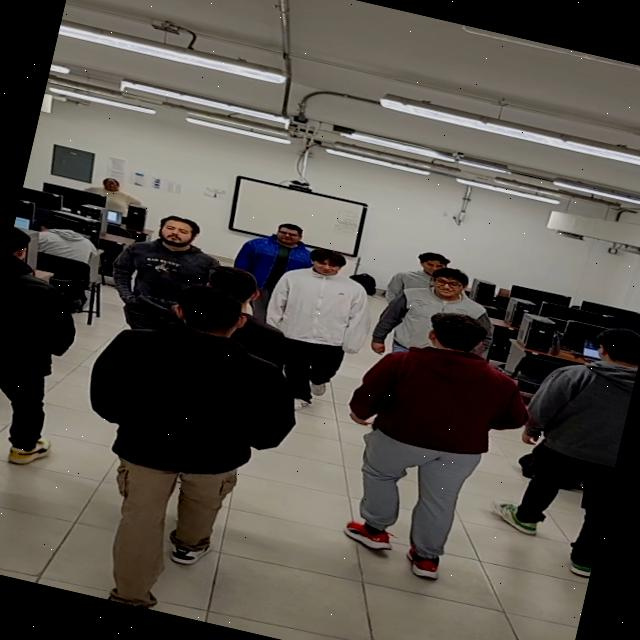Persona: (48, 271, 312, 630), (318, 296, 530, 596), (489, 311, 640, 579), (0, 224, 102, 509), (245, 237, 375, 422), (108, 202, 206, 332), (377, 251, 506, 332), (238, 202, 316, 284)
